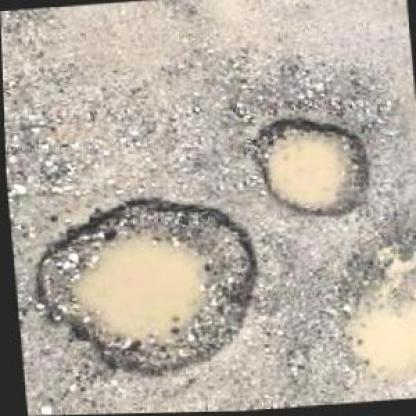pothole: (18, 184, 268, 388), (248, 111, 374, 225)
